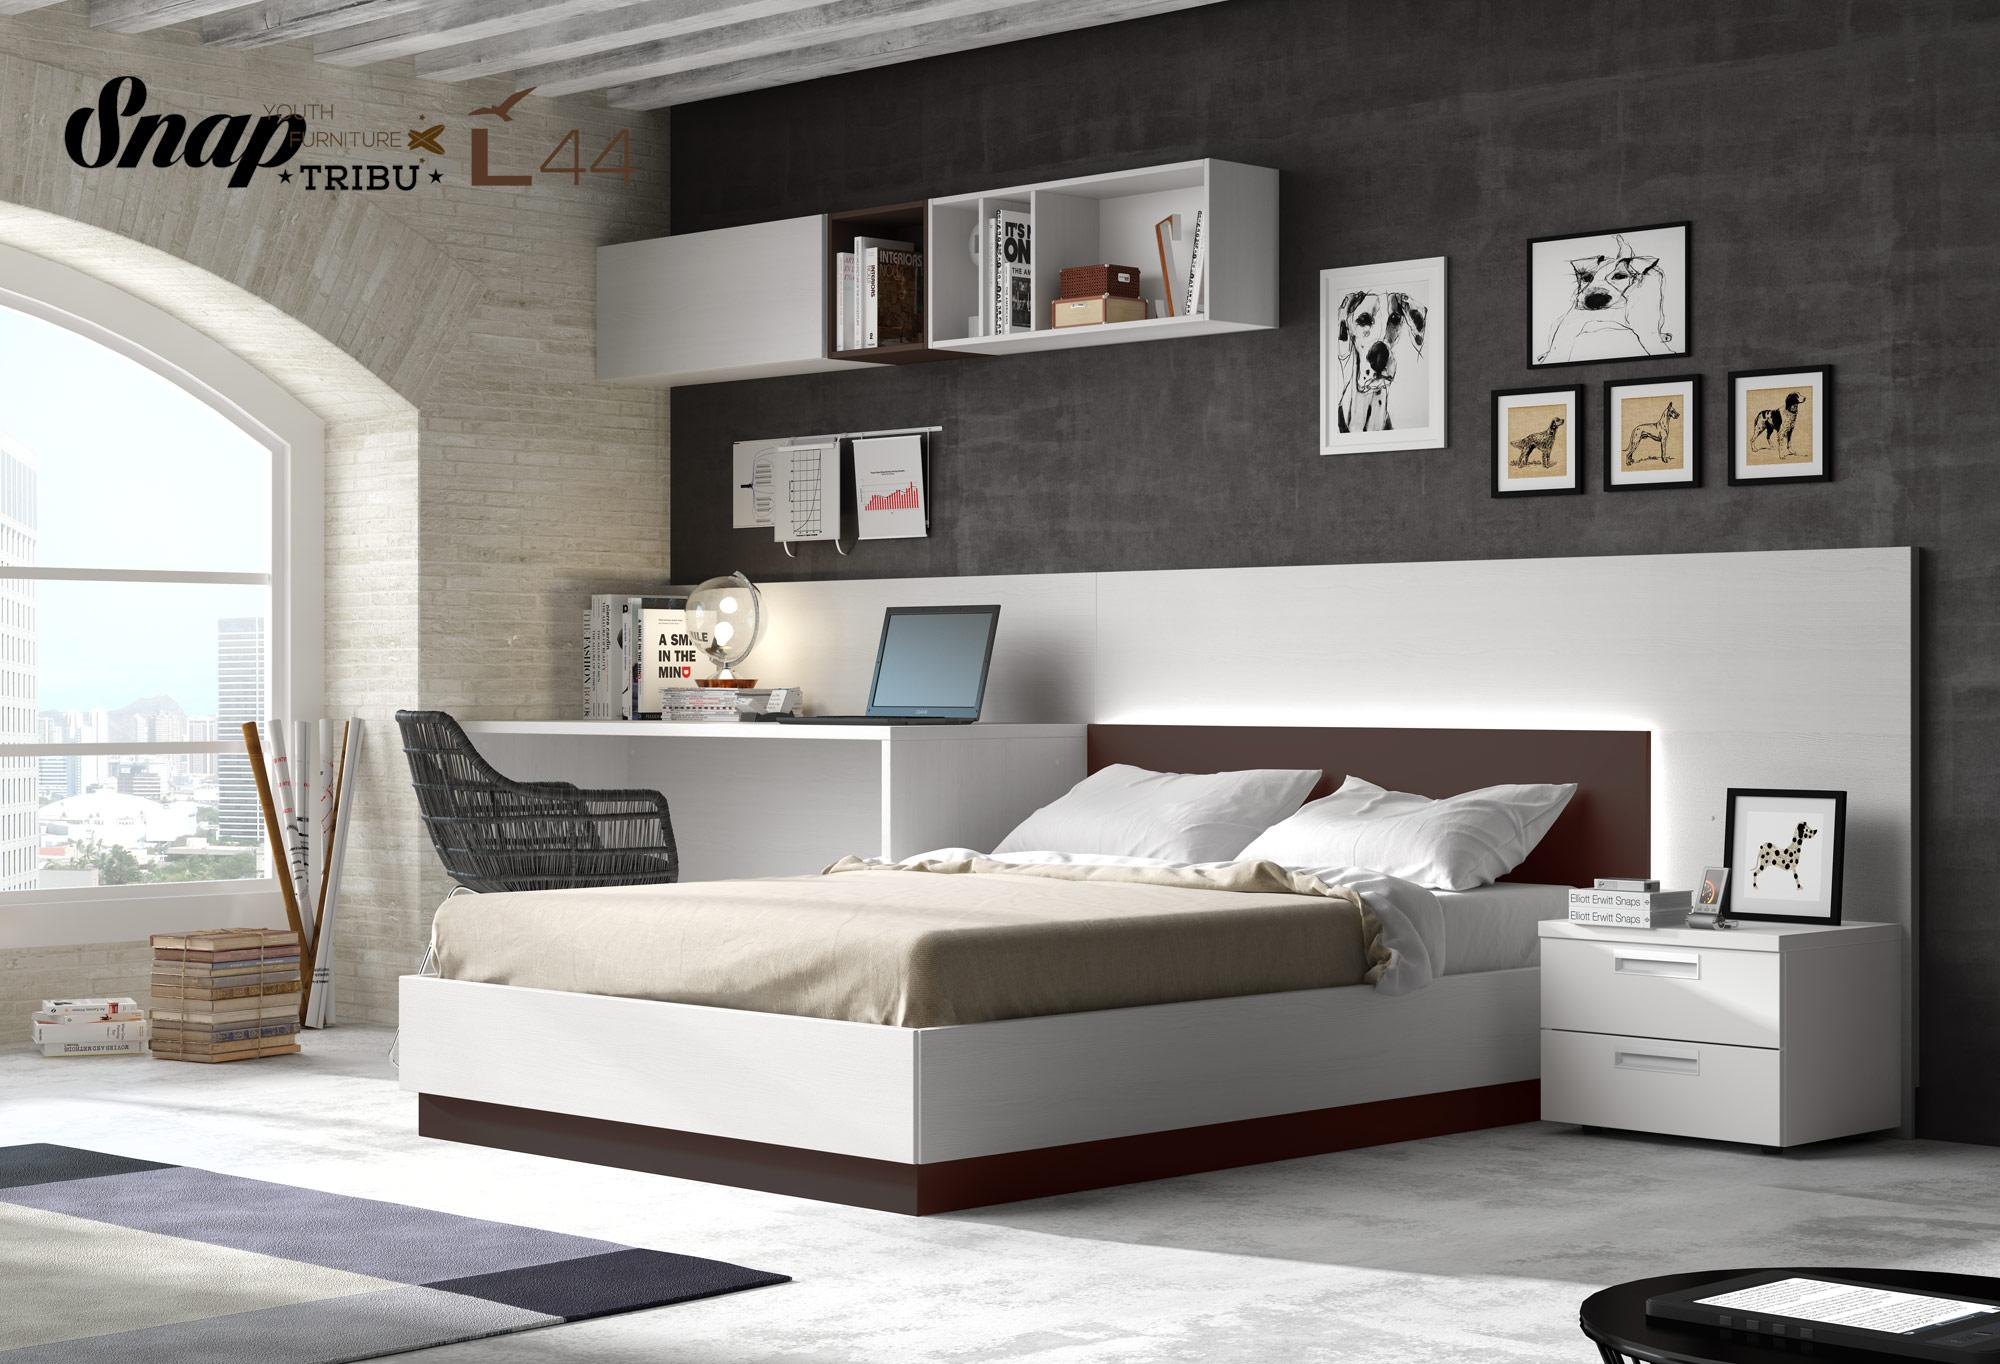bed: (544, 723, 1564, 1094)
